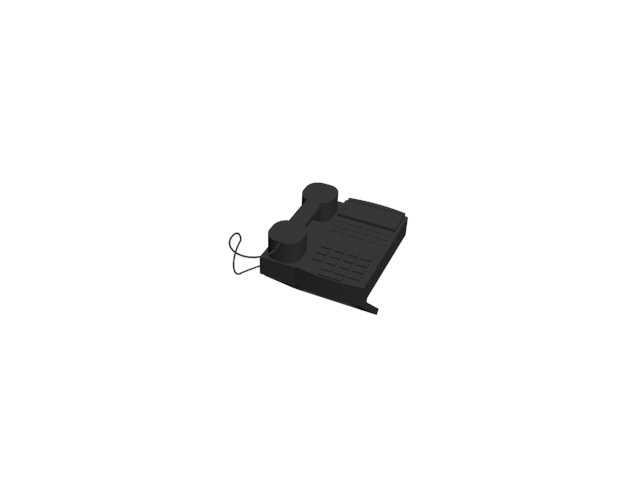phone: (225, 177, 416, 320)
